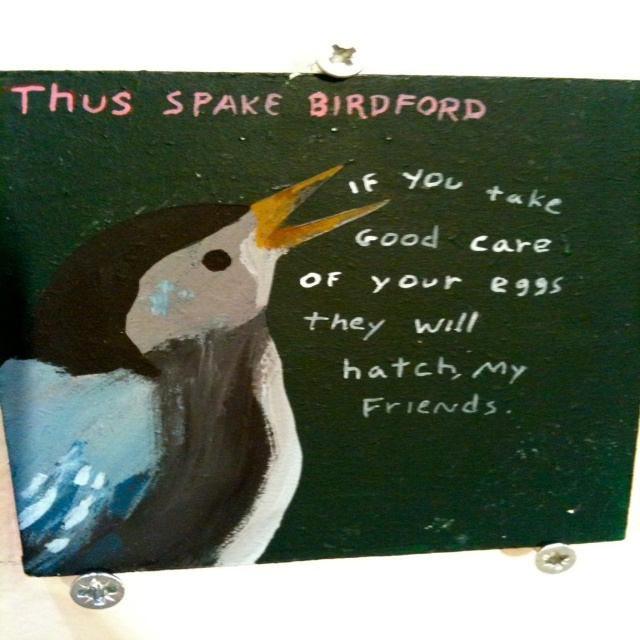Penguin: (0, 156, 389, 564)
